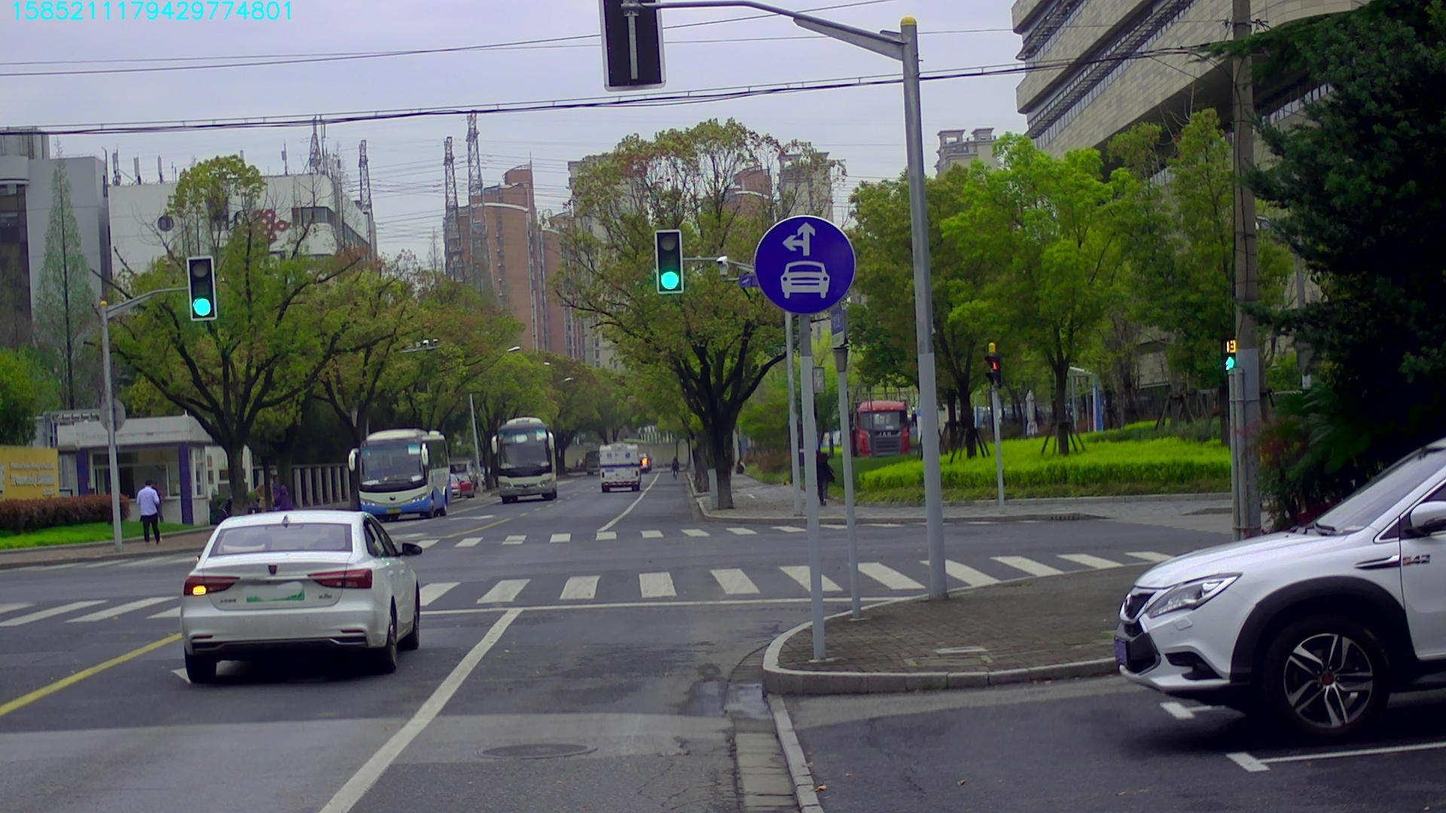green: (656, 230, 682, 292), (188, 256, 214, 318)
